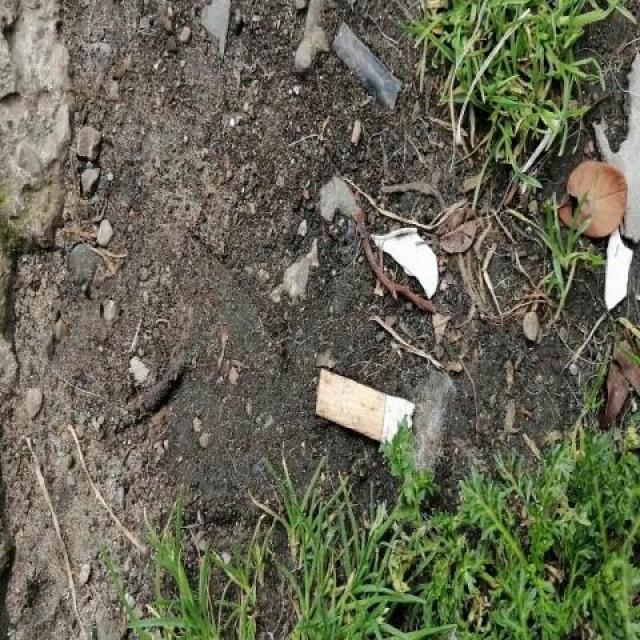non-organic waste: (313, 364, 423, 451)
